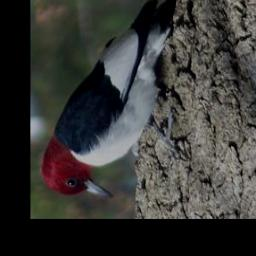Woodpecker: (39, 0, 194, 201)
